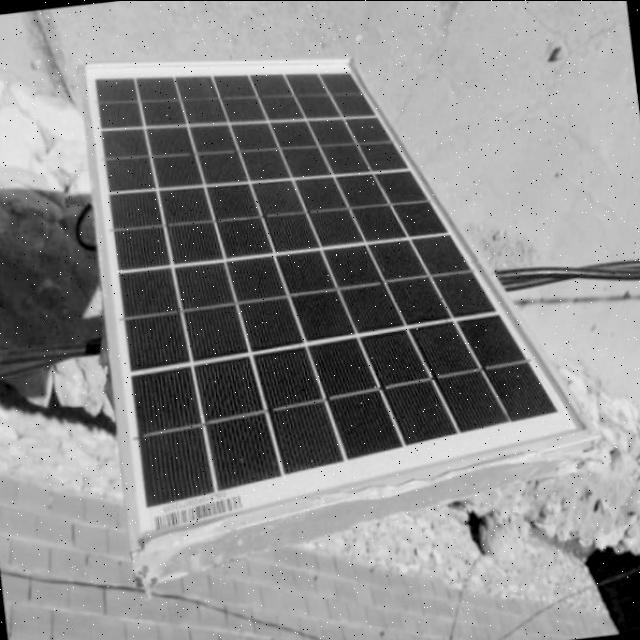Normal Solar Panel: (77, 11, 600, 558)
